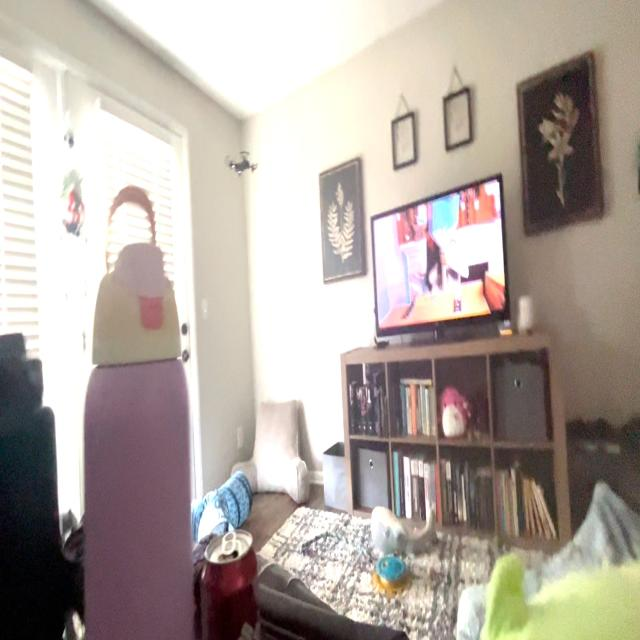drone: (214, 130, 266, 186)
